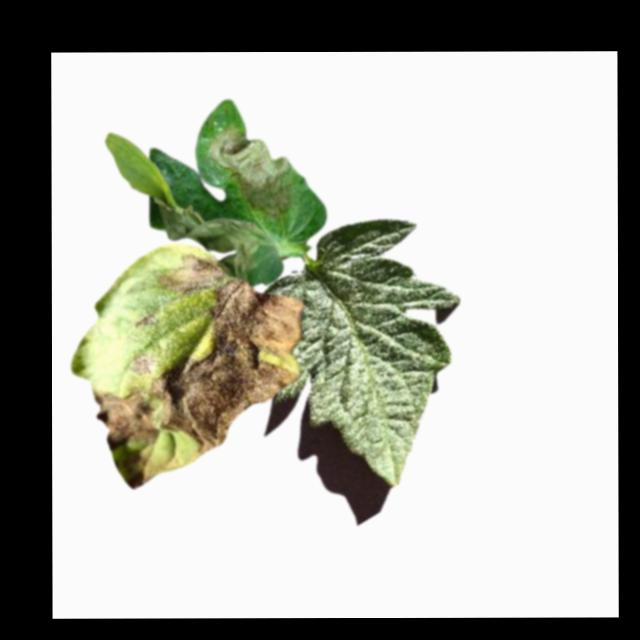Late_blight: (156, 251, 308, 456), (153, 196, 265, 279), (205, 126, 294, 218), (91, 385, 159, 450), (131, 351, 156, 379), (136, 312, 156, 333)
healthy: (269, 219, 459, 487)
